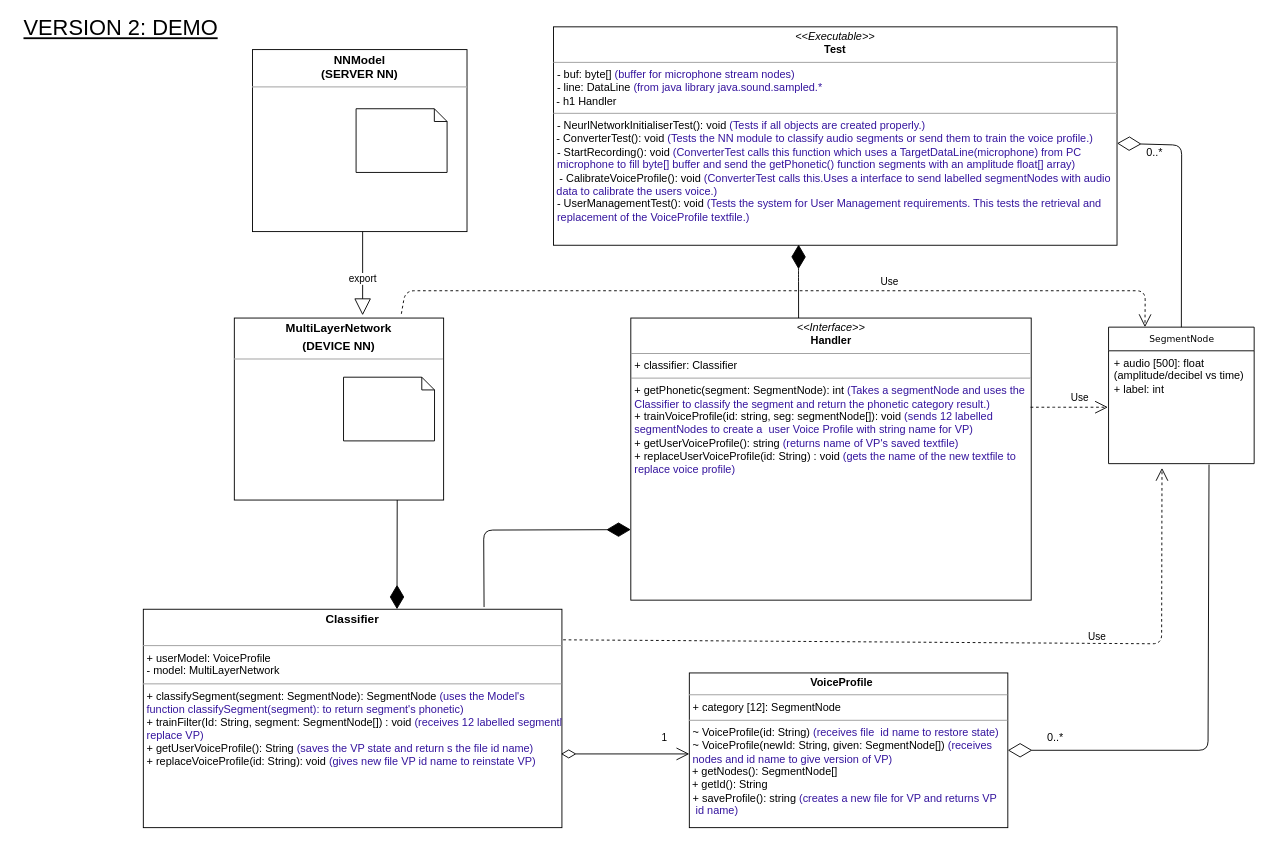
Some shapes in this 1270 by 844 pixel diagram are drawn without their labels. Each missing label, with the centre of its shape:
"Modelmport JAVA" goes at (389,408).
"TensorFlow Keras PYTHON" goes at (401,140).
